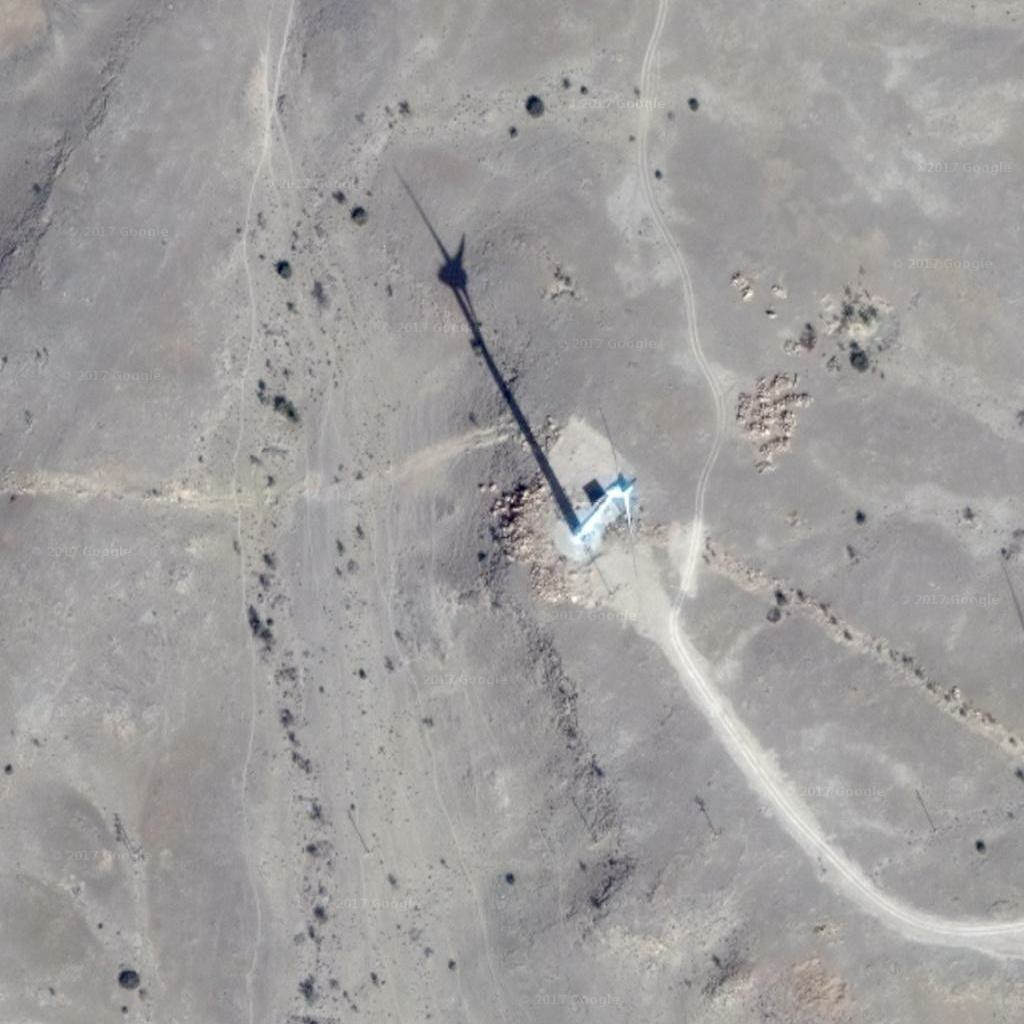Windmill: (398, 179, 584, 525)
